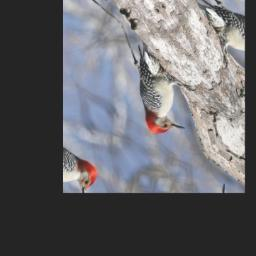Woodpecker: (101, 26, 216, 150)
